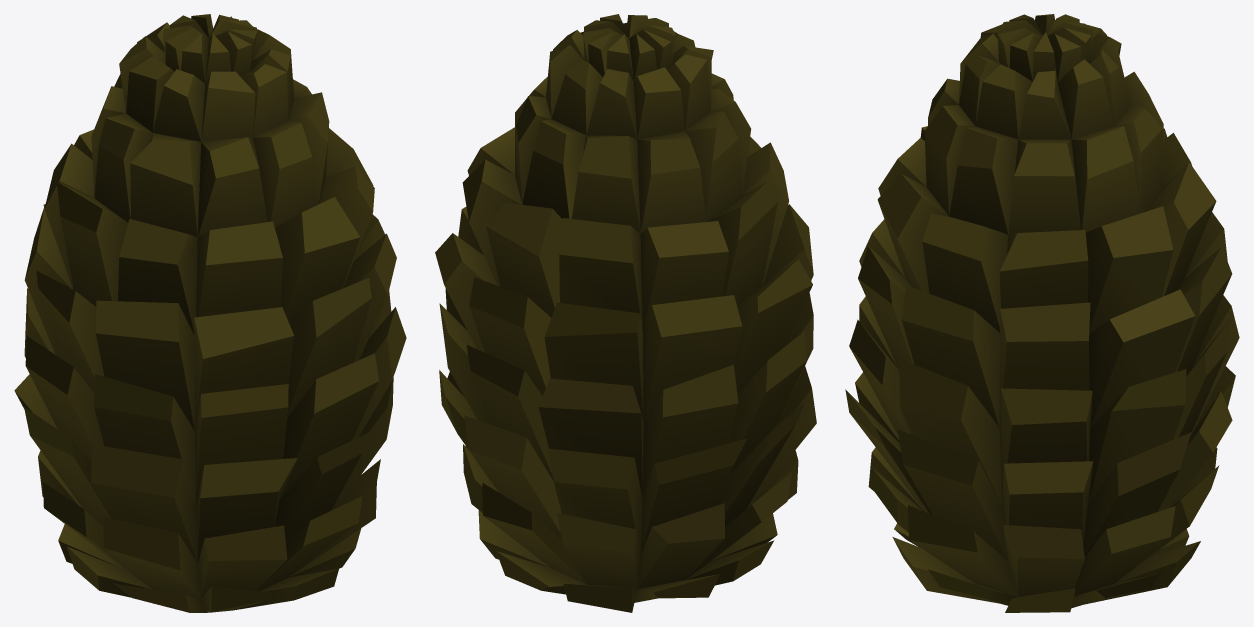
File: Pinecone1.fbx
3 renders of one model, left to right at view 1: azimuth 30°, elevation 25°; view 2: azimuth 150°, elevation 25°; view 3: azimuth 270°, elevation 25°, orthographic.
Parts seen in each view (by area): view 1: Pinecone1; view 2: Pinecone1; view 3: Pinecone1.
Part boxes in pixels (x1=…): Pinecone1: x1=14, y1=14, x2=406, y2=612; Pinecone1: x1=435, y1=14, x2=816, y2=612; Pinecone1: x1=845, y1=14, x2=1239, y2=612.
Size of the model in its own units: 263 by 433 by 269.
